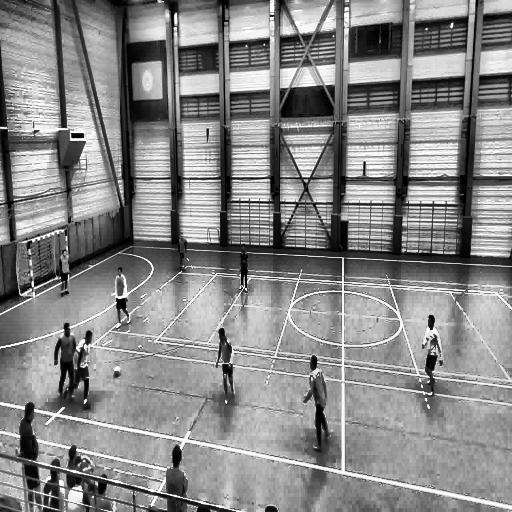ball: (112, 363, 123, 378)
player: (303, 355, 331, 452), (63, 328, 93, 414), (17, 404, 41, 510), (54, 322, 78, 400), (420, 314, 442, 394), (216, 325, 234, 404), (115, 267, 132, 327), (60, 249, 70, 296), (238, 246, 248, 292), (178, 233, 188, 269)
